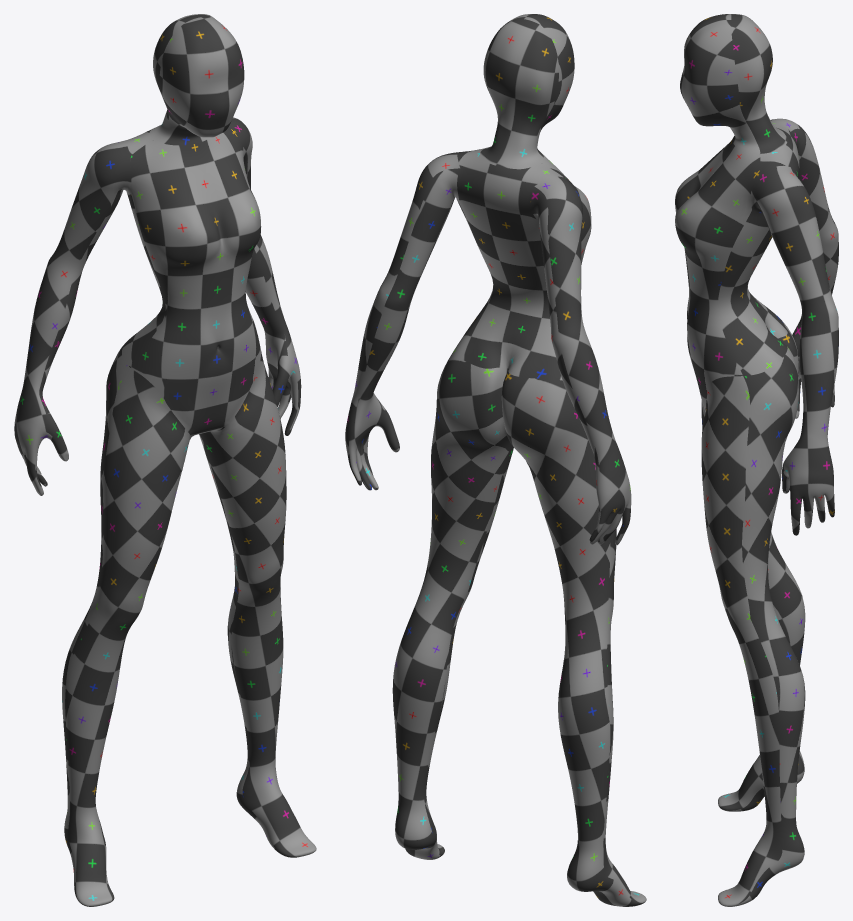
File: Body.glb
3 renders of one model, left to right at view 1: azimuth 30°, elevation 25°; view 2: azimuth 150°, elevation 25°; view 3: azimuth 270°, elevation 25°, orthographic. The views are drawn at different scales.
Visible parts, largest first — view 1: Female_Body_Base_Model; view 2: Female_Body_Base_Model; view 3: Female_Body_Base_Model.
Boxes of the visible parts, x1,y1,x2,y2 form: Female_Body_Base_Model: [14, 14, 316, 906]; Female_Body_Base_Model: [345, 14, 646, 906]; Female_Body_Base_Model: [675, 14, 838, 906].
Bounding box in the file's own units: 8.16 × 24.25 × 4.31.
1 material, 1 textured.
